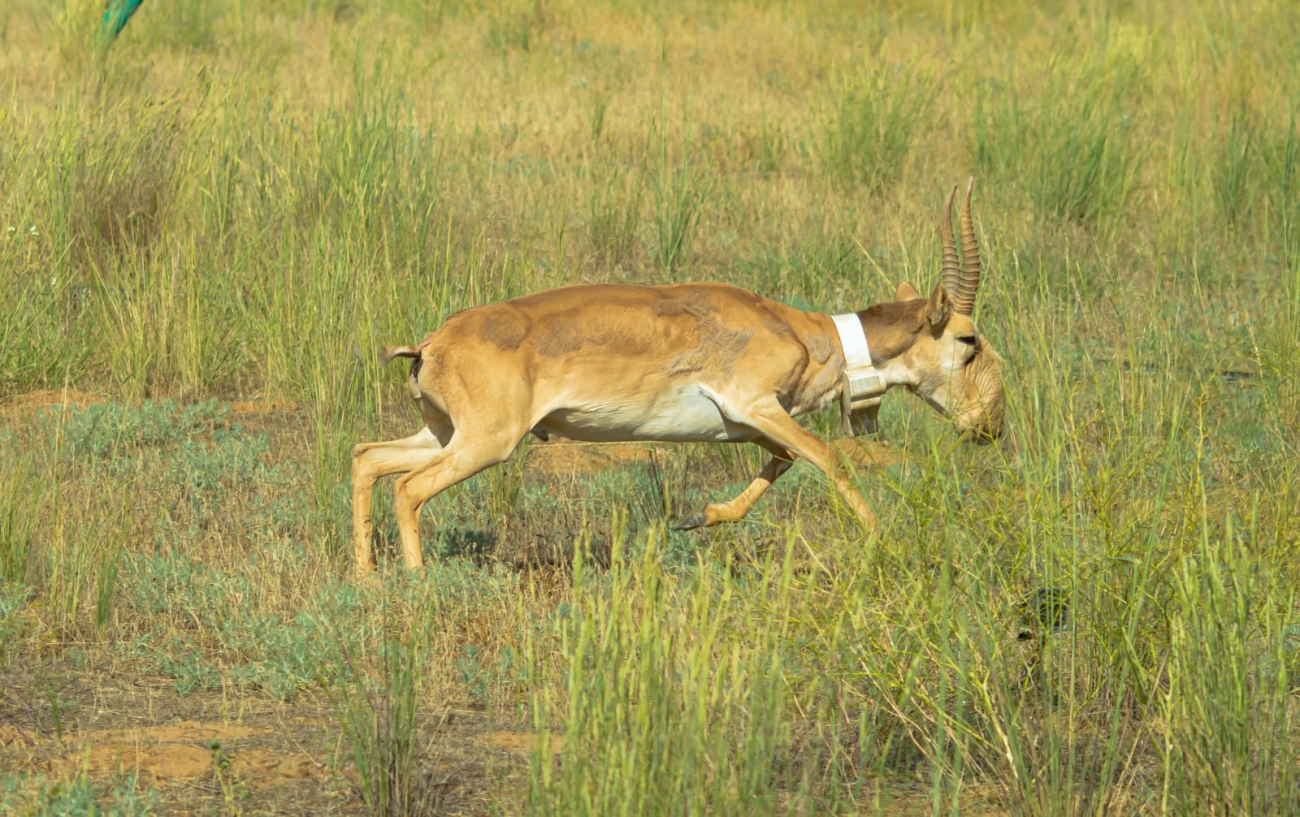saiga: (325, 165, 1046, 551)
